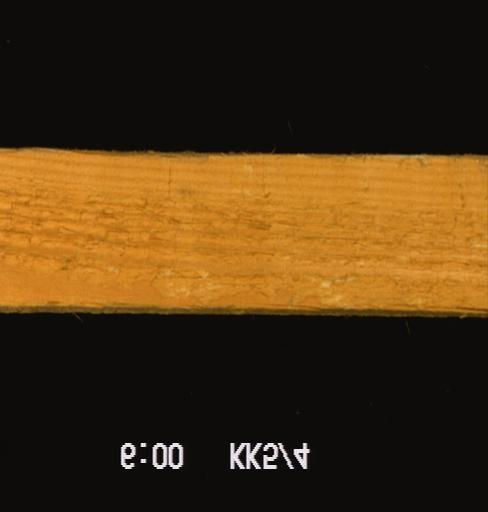split: (387, 299, 486, 314), (244, 299, 331, 312)
